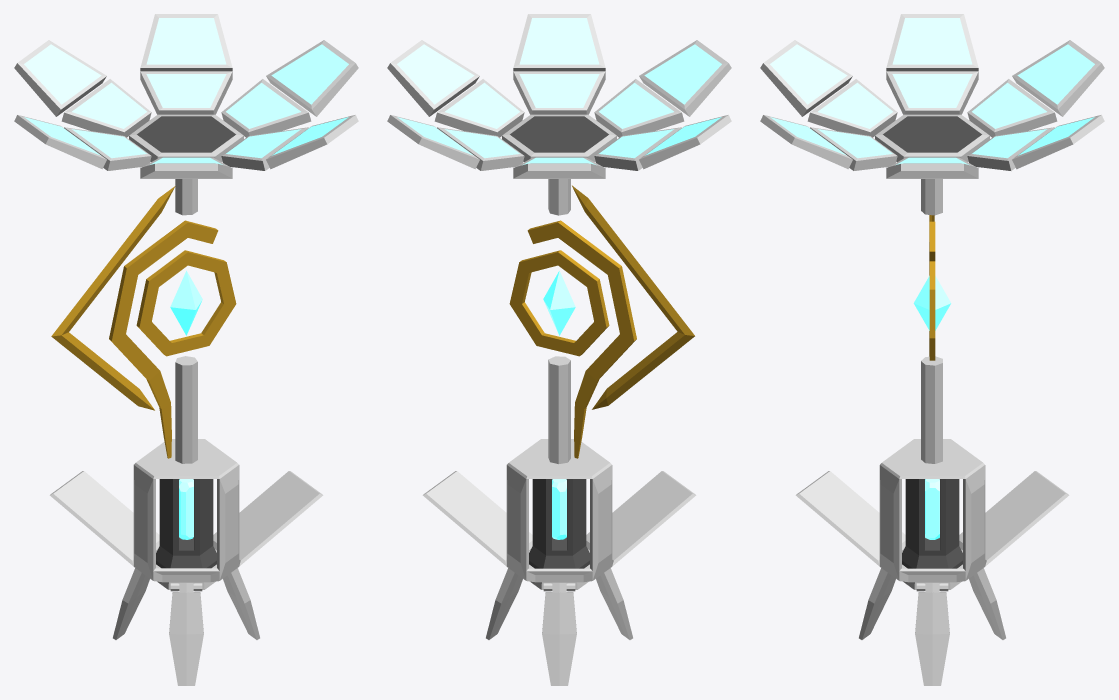
The model's file is Torre_Rallentante.fbx.
The picture shows the model from 3 angles, left to right: view 1: azimuth 30°, elevation 25°; view 2: azimuth 150°, elevation 25°; view 3: azimuth 270°, elevation 25°; orthographic projection.
Visible parts, largest first — view 1: Cylinder.005, Cylinder.004, Cylinder.009, Cylinder.006, Cylinder, Cube, Cylinder.001, Solid, Solid.003; view 2: Cylinder.005, Cylinder.004, Cylinder.009, Cylinder.006, Cylinder, Cube, Cylinder.001, Solid, Solid.003; view 3: Cylinder.005, Cylinder.004, Cylinder.009, Cylinder.001, Solid, Solid.003, Cylinder.
Boxes of the visible parts, x1,y1,x2,y2 form: Cylinder.005: (14,14,358,178); Cylinder.004: (49,439,323,582); Cylinder.009: (113,568,259,685); Cylinder.006: (109,220,218,458); Cylinder: (136,250,236,356); Cube: (51,186,175,410); Cylinder.001: (175,179,197,463); Solid: (170,270,202,335); Solid.003: (179,479,193,539); Cylinder.005: (387,14,731,178); Cylinder.004: (422,439,696,582); Cylinder.009: (486,568,632,685); Cylinder.006: (527,220,636,458); Cylinder: (509,250,609,356); Cube: (572,185,694,409); Cylinder.001: (548,179,570,464); Solid: (543,270,575,335); Solid.003: (552,479,566,539); Cylinder.005: (760,14,1104,178); Cylinder.004: (795,439,1069,582); Cylinder.009: (859,568,1005,685); Cylinder.001: (921,179,942,463); Solid: (913,276,951,330); Solid.003: (925,479,939,539); Cylinder: (929,261,935,360).
Bounding box in the file's own units: 6.3 × 6 × 10.85.
